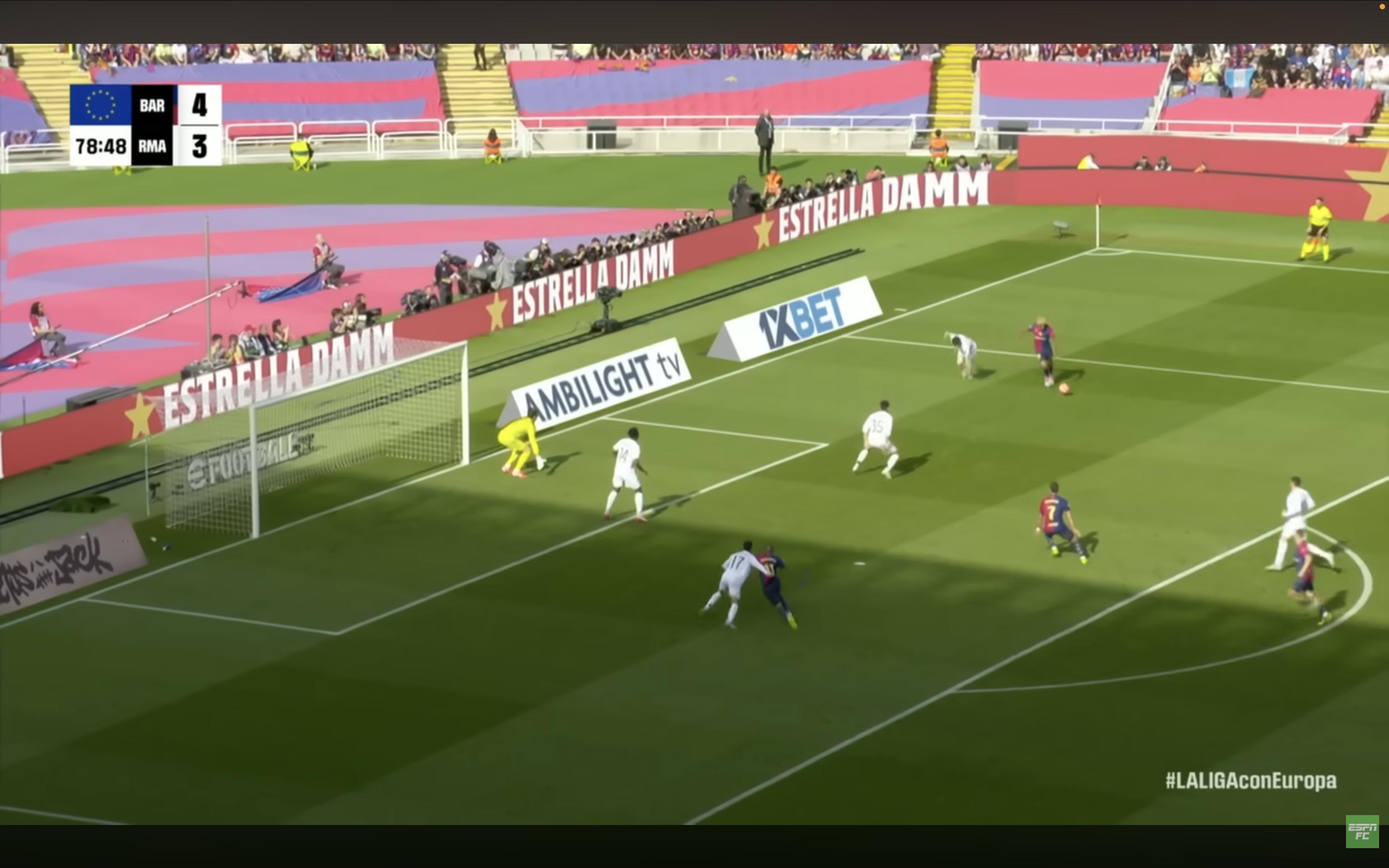ball: (1058, 382, 1070, 394)
goalkeeper: (498, 410, 544, 478)
player: (700, 541, 774, 628), (1267, 476, 1315, 571), (1036, 482, 1088, 564), (1288, 530, 1331, 625), (604, 428, 647, 522), (853, 400, 899, 479), (758, 546, 798, 629), (1024, 317, 1055, 387), (945, 332, 976, 379)
referee: (1299, 197, 1333, 261)
